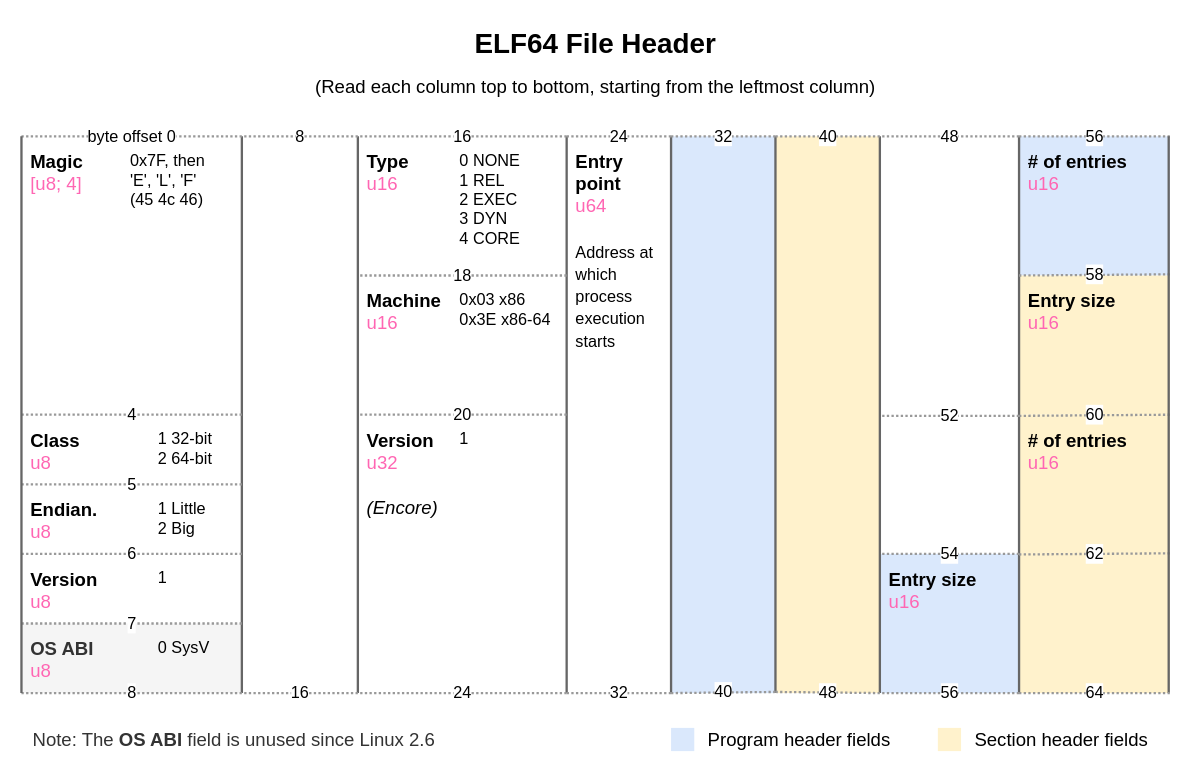
Some shapes in this 1191 by 782 pixel diagram are drawn without their labels. Here are the shapes that lost their labels. From the top down, the centre of each, then its label:
At (948,275): "Flags u32 Processor-specific flags. (None known at the moment)".
At (299,414): "Padding [u8; 8]".
At (722,414): "Table offset u64 Offset of the first program header entry".
At (827,414): "Table offset u64 Offset of the first section header entry".
At (948,483): "Header size u16 Normally 64".
At (1093,623): "Index of entry with section names u16".
